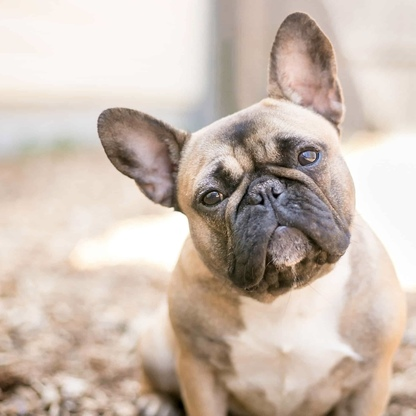bulldog: (92, 11, 415, 416)
